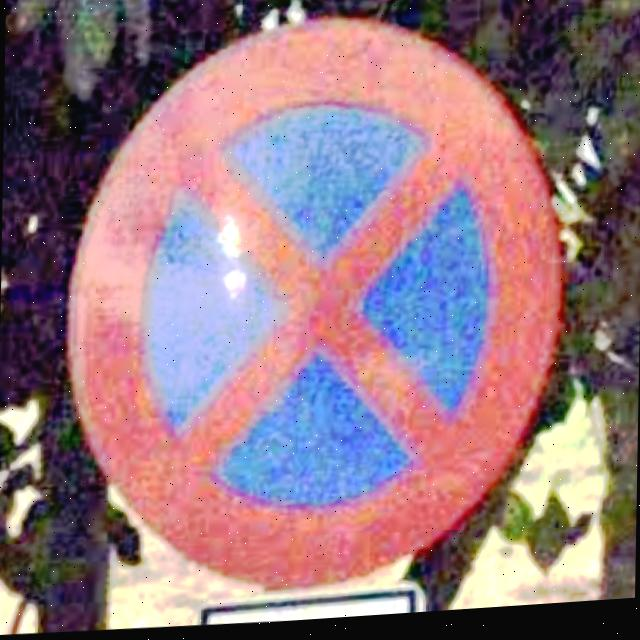nopark: (66, 23, 564, 595)
